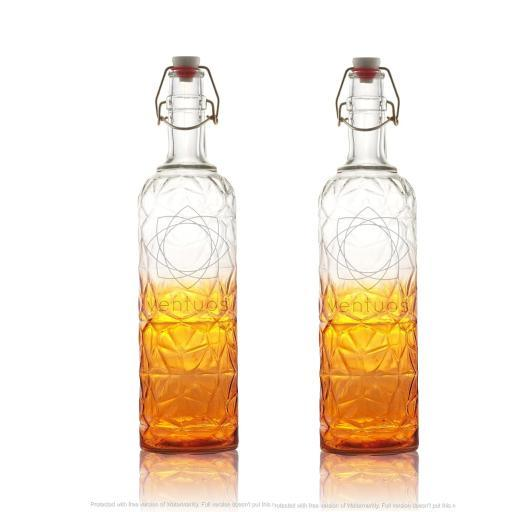bottle: (134, 48, 244, 456)
